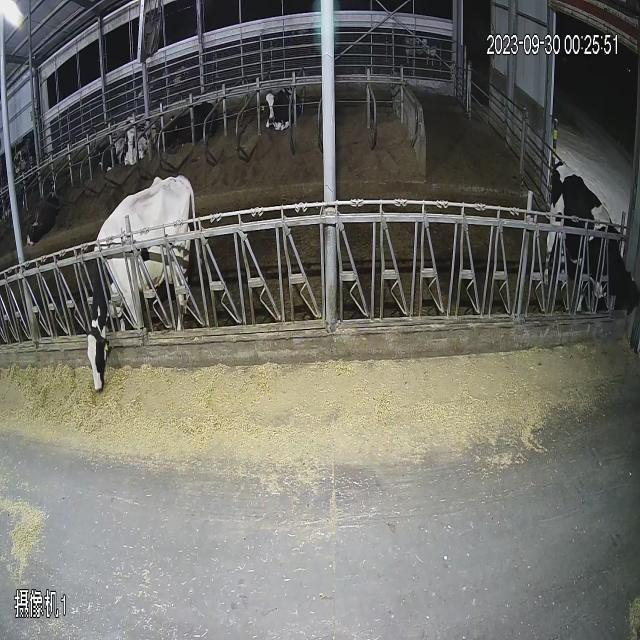feeding: (79, 162, 211, 416), (545, 148, 640, 347)
lying down: (255, 64, 305, 156)
